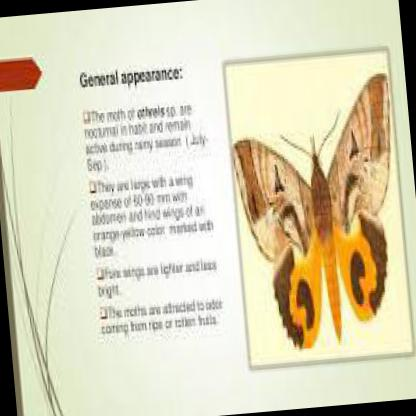fruit sucking moth: (230, 74, 388, 350)
